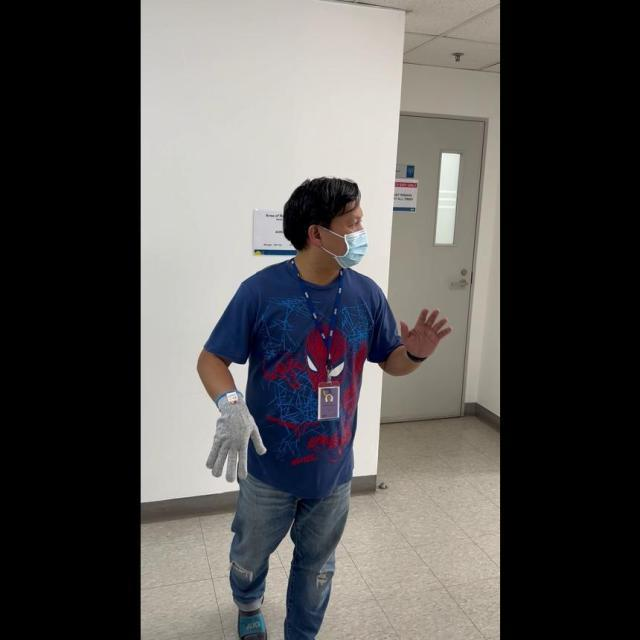bare_hand: (398, 301, 449, 360)
gloved_hand: (204, 387, 263, 479)
